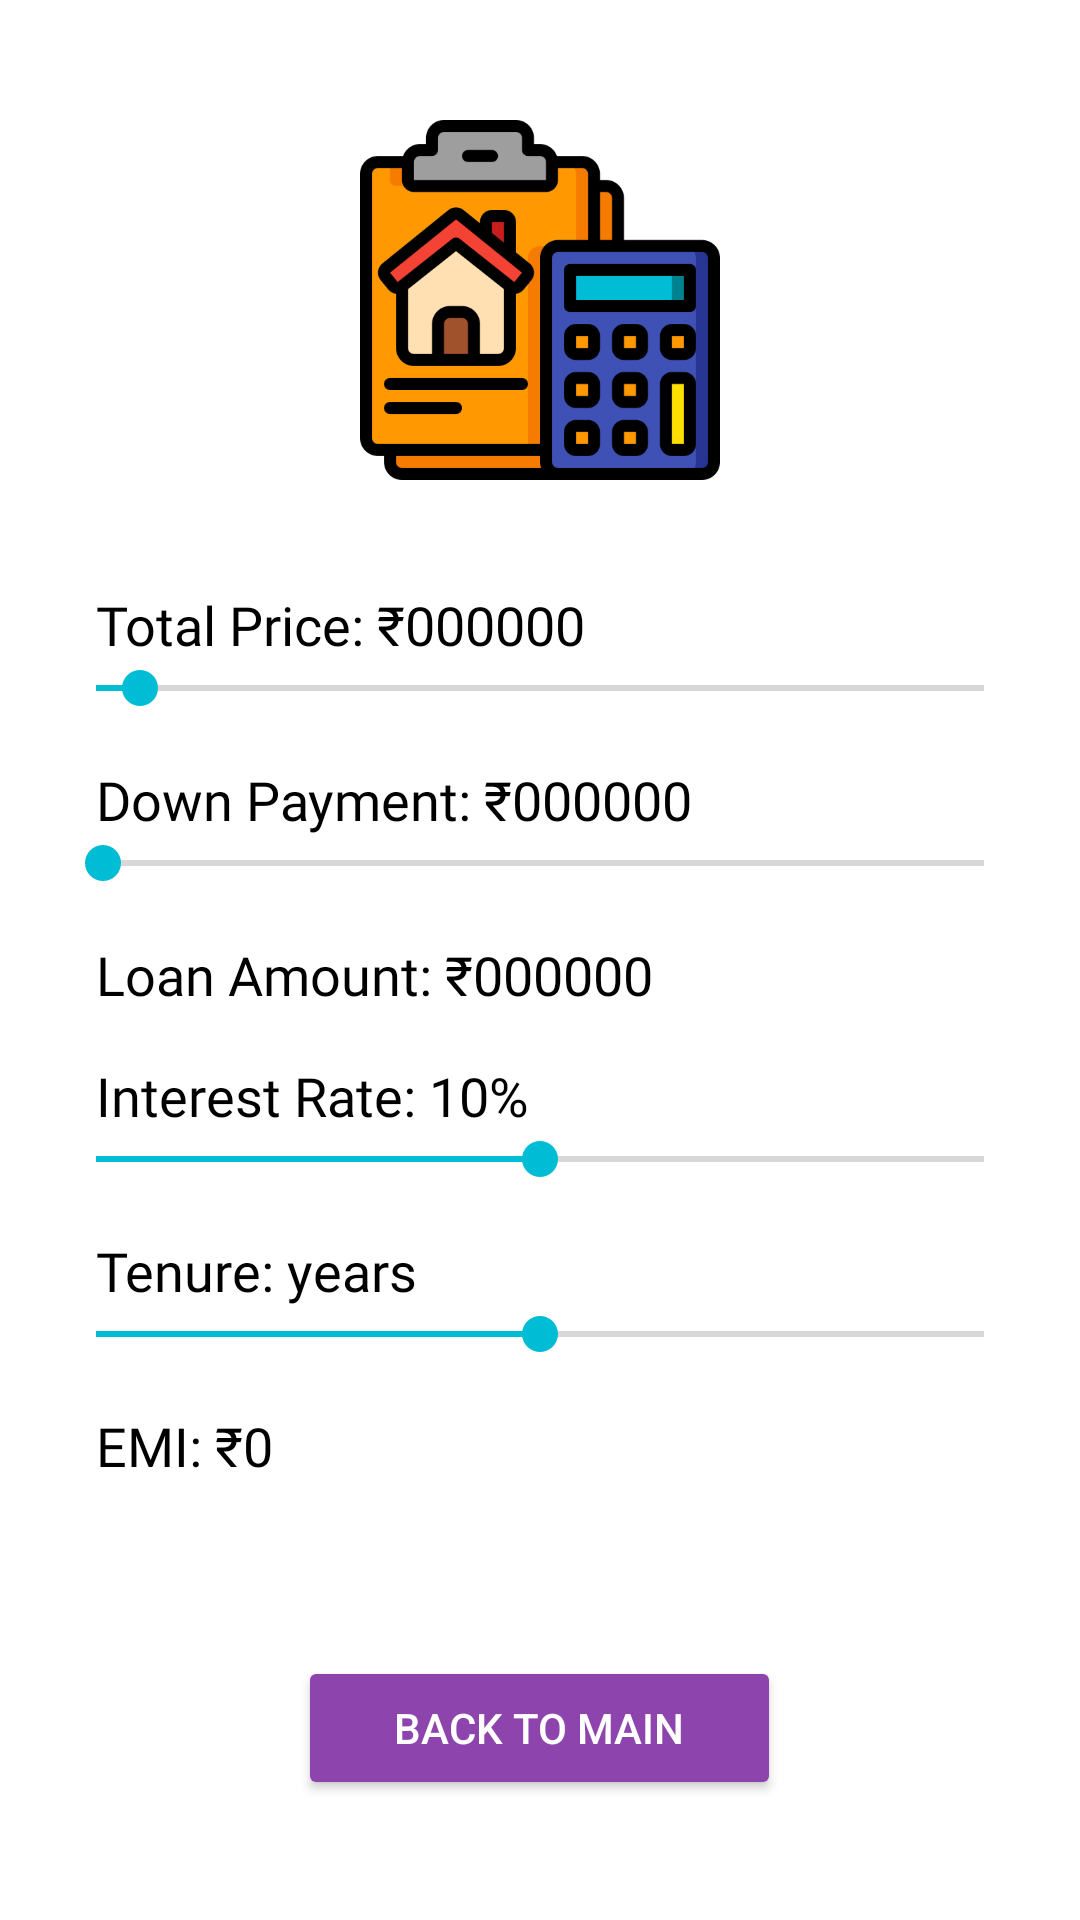

Named icons in this screenshot (1080*1920) and their bounding boxes, (x1, y1, x2, y2):
finance: (360, 120, 720, 480)
